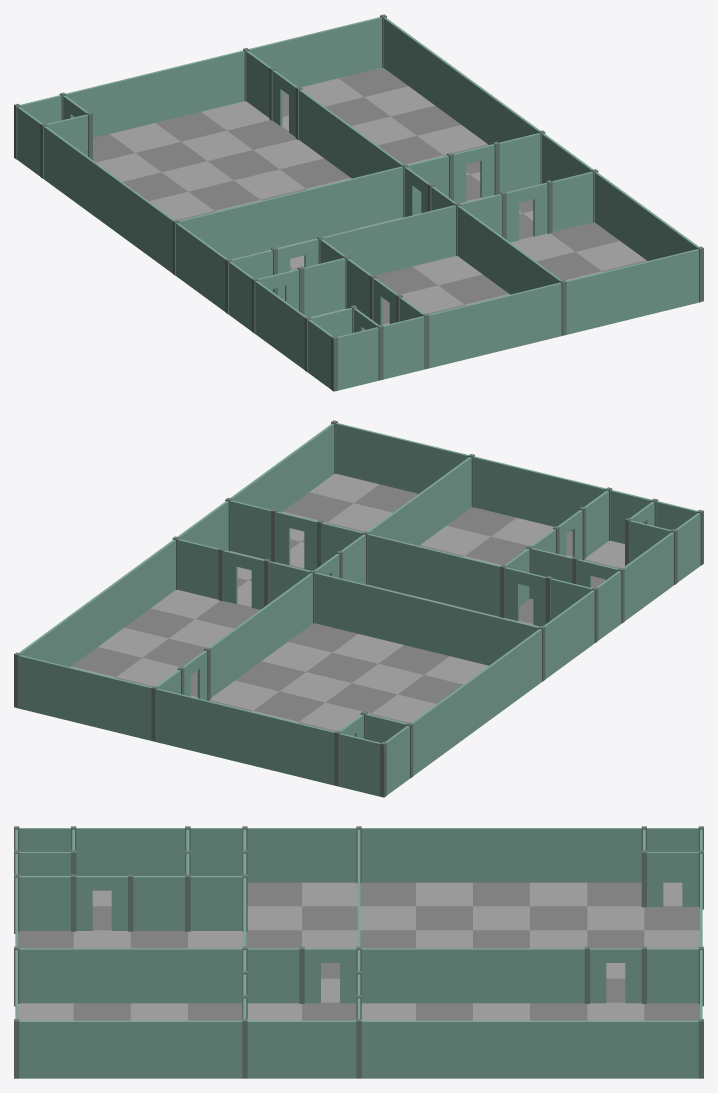
The model's file is tutorial.fbx.
3 views of the same model, one above another, from view 1: azimuth 30°, elevation 25°; view 2: azimuth 150°, elevation 25°; view 3: azimuth 270°, elevation 25° (orthographic). The views are drawn at different scales.
Parts seen in each view (by area): view 1: pCube117, pCube144, pCube168, pCube145, pCube148, pCube143, pCube240, pCube108, pCube147, pCube167, pCube251, pCube252 (+88 smaller); view 2: pCube240, pCube167, pCube168, pCube117, pCube163, pCube166, pCube170, pCube162, pCube108, pCube251, pCube252, pCube254 (+88 smaller); view 3: pCube150, pCube151, pCube244, pCube245, pCube242, pCube243, pCube104, pCube105, pCube149, pCube246, pCube152, pCube153 (+73 smaller).
Part boxes in pixels (box(x1,y1,x2,y2)): pCube117: box(608, 259, 655, 324); pCube144: box(471, 293, 518, 357); pCube168: box(108, 72, 155, 133); pCube145: box(517, 282, 562, 346); pCube148: box(654, 249, 700, 312); pCube143: box(427, 304, 472, 368); pCube240: box(292, 27, 338, 87); pCube108: box(366, 216, 412, 275); pCube147: box(565, 271, 609, 335); pCube167: box(154, 61, 200, 122); pCube251: box(313, 177, 359, 238); pCube252: box(267, 188, 313, 249); pCube240: box(62, 665, 109, 730); pCube167: box(199, 699, 246, 763); pCube168: box(245, 710, 292, 774); pCube117: box(379, 433, 425, 493); pCube163: box(17, 655, 63, 718); pCube166: box(155, 688, 200, 752); pCube170: box(291, 721, 335, 785); pCube162: box(108, 677, 152, 741); pCube108: box(411, 544, 457, 606); pCube251: box(358, 583, 404, 644); pCube252: box(404, 594, 450, 655); pCube254: box(450, 605, 496, 665); pCube150: box(73, 1020, 130, 1078); pCube151: box(130, 1020, 187, 1078); pCube244: box(530, 1020, 587, 1078); pCube245: box(587, 1020, 644, 1078); pCube242: box(416, 1020, 472, 1078); pCube243: box(473, 1020, 529, 1078); pCube104: box(130, 948, 187, 1003); pCube105: box(73, 948, 130, 1003); pCube149: box(19, 1020, 73, 1078); pCube246: box(644, 1020, 698, 1078); pCube152: box(188, 1020, 242, 1078); pCube153: box(247, 1020, 301, 1078).
Bounding box in the file's own units: 80.94 × 11.22 × 121.
